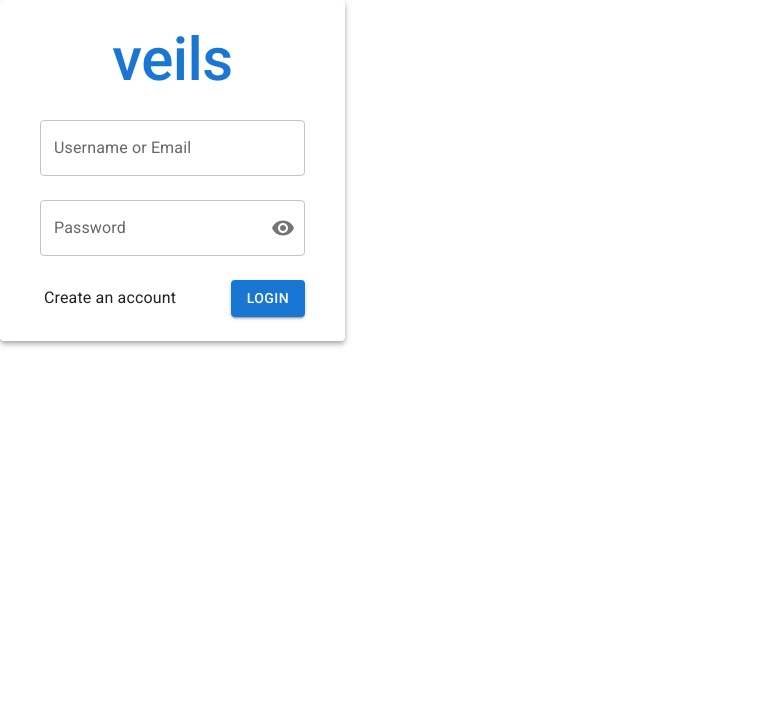
Scenario: LoginForm › empty principal
only fill-in password then click login
Type "demo123" into the password field labelled "Password" at (148, 228), box [40,200,255,256]
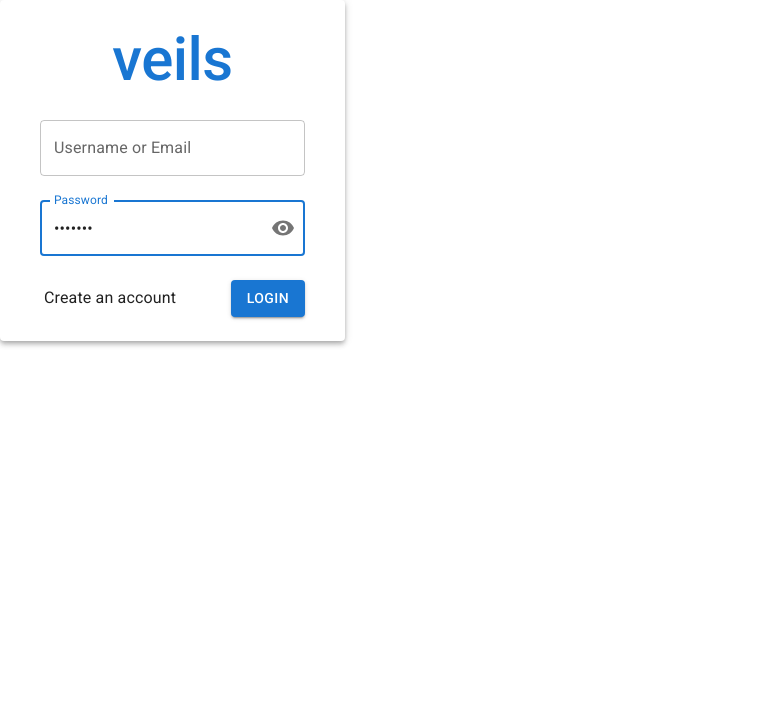
Click the button "Login" at (268, 298), box [231,280,305,316]
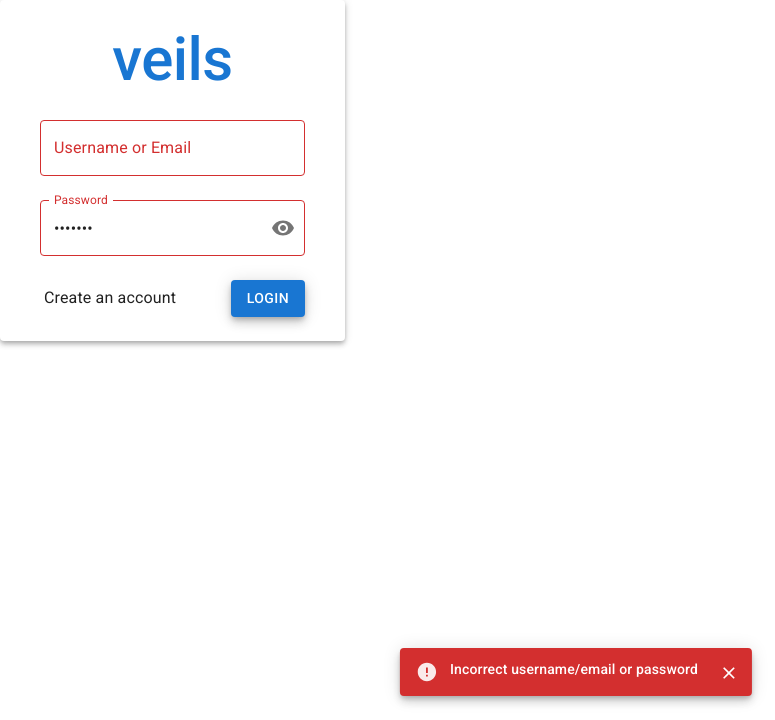
Result: the text "Incorrect username/email or password" is shown at [450,661,698,677]
